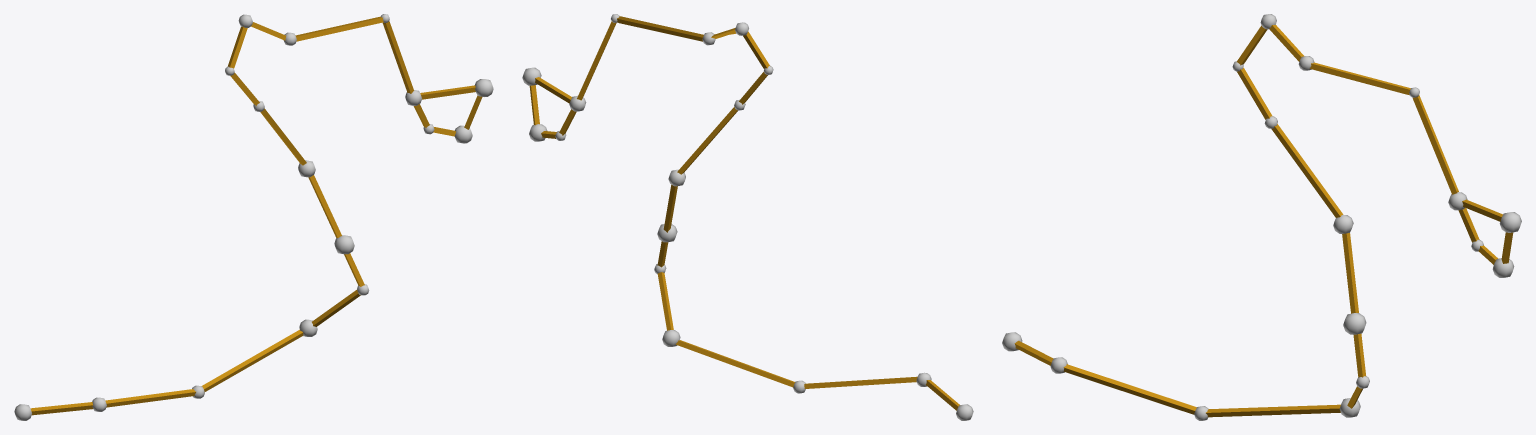
Rendered from Constellation_Draco.fbx.
3 renders of one model, left to right at view 1: azimuth 30°, elevation 25°; view 2: azimuth 150°, elevation 25°; view 3: azimuth 330°, elevation 25°, orthographic. The views are drawn at different scales.
Visible parts, largest first — view 1: Constellation_Draco; view 2: Constellation_Draco; view 3: Constellation_Draco.
Part boxes in pixels (x1,y1,x2,y2): Constellation_Draco: [14, 14, 493, 420]; Constellation_Draco: [522, 14, 973, 420]; Constellation_Draco: [1002, 14, 1521, 420].
Bounding box in the file's own units: 34.23 × 25.75 × 4.1.
